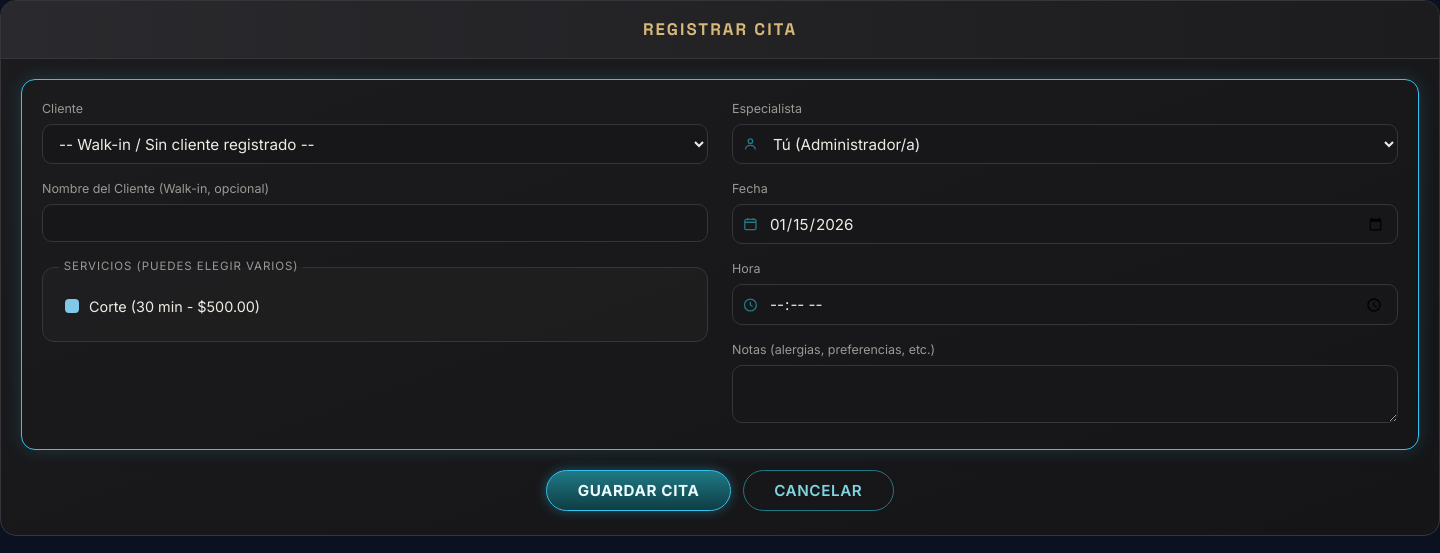
Test: AppointmentForm › al elegir un cliente registrado, oculta el campo de nombre walk-in
Check: the field labelled "Nombre del Cliente (Walk-in, opcional)" is shown, box [42,204,708,242]
Select "Ana" in the dropdown labelled "Cliente": {"x": 375, "y": 144} [42,124,708,164]
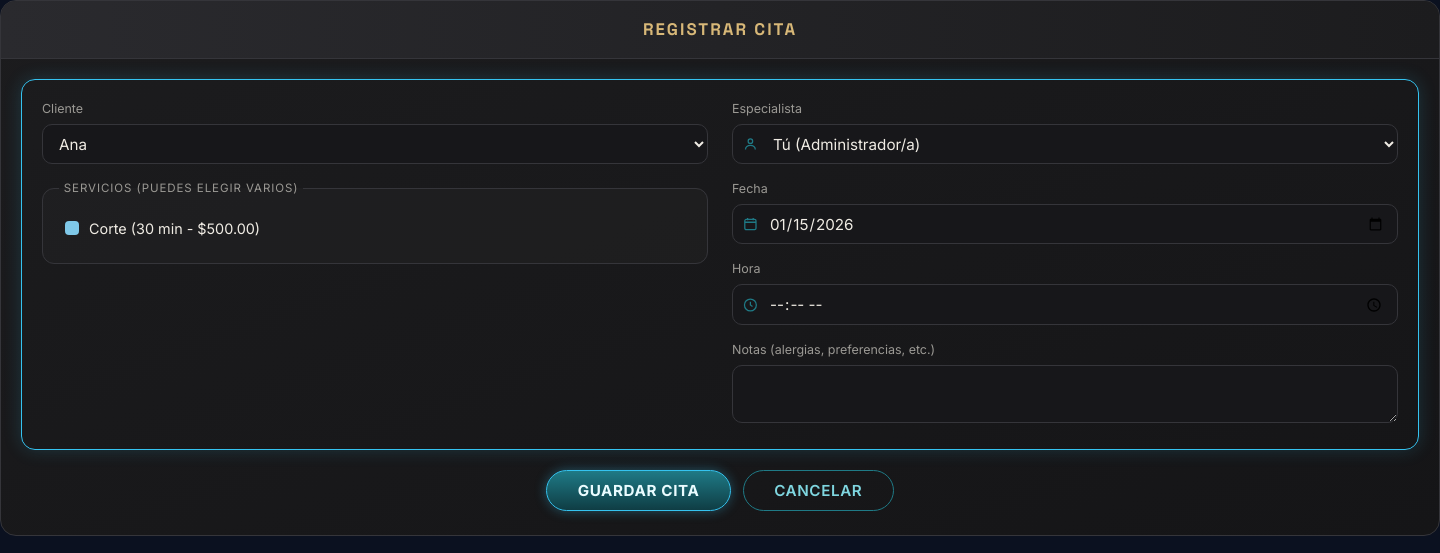
Check: the label labelled "Nombre del Cliente (Walk-in, opcional)" is gone
